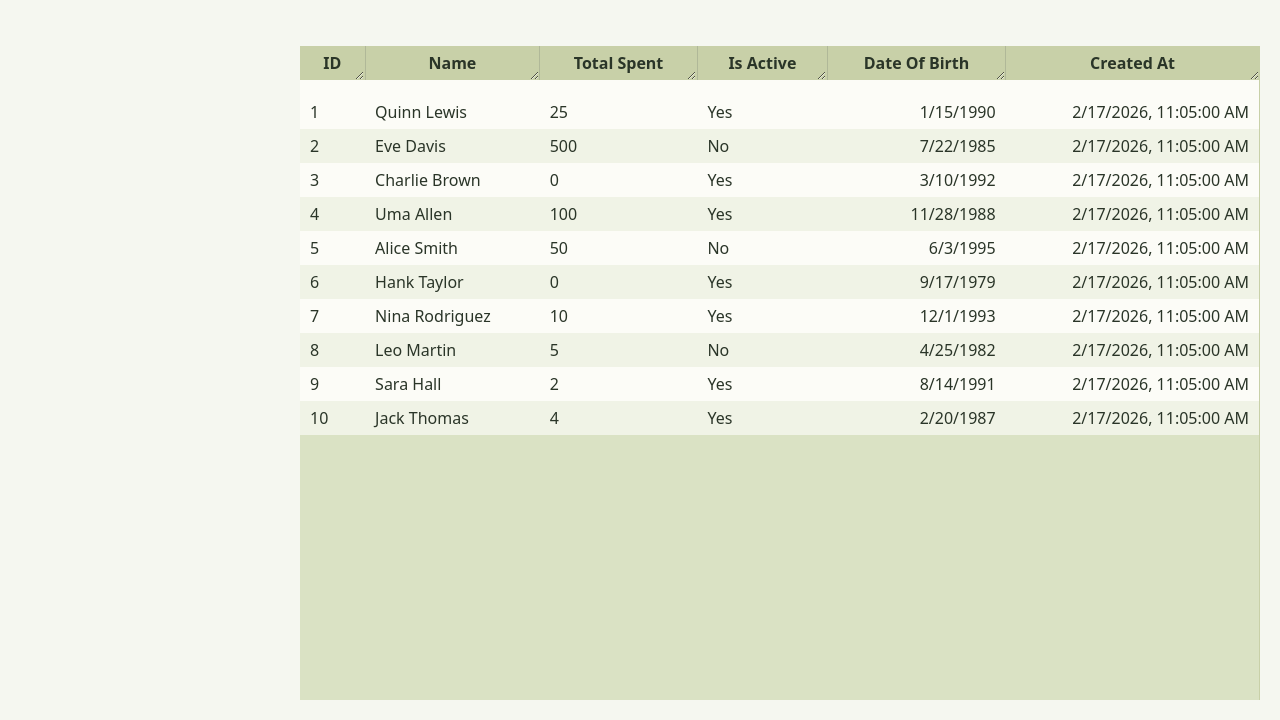
Test case: Table › sets the sort indicator to desc when a column is clicked twice
The width and height of the screenshot is (1280, 720).
Click the button "Name" at (452, 63), box [365,46,540,80]
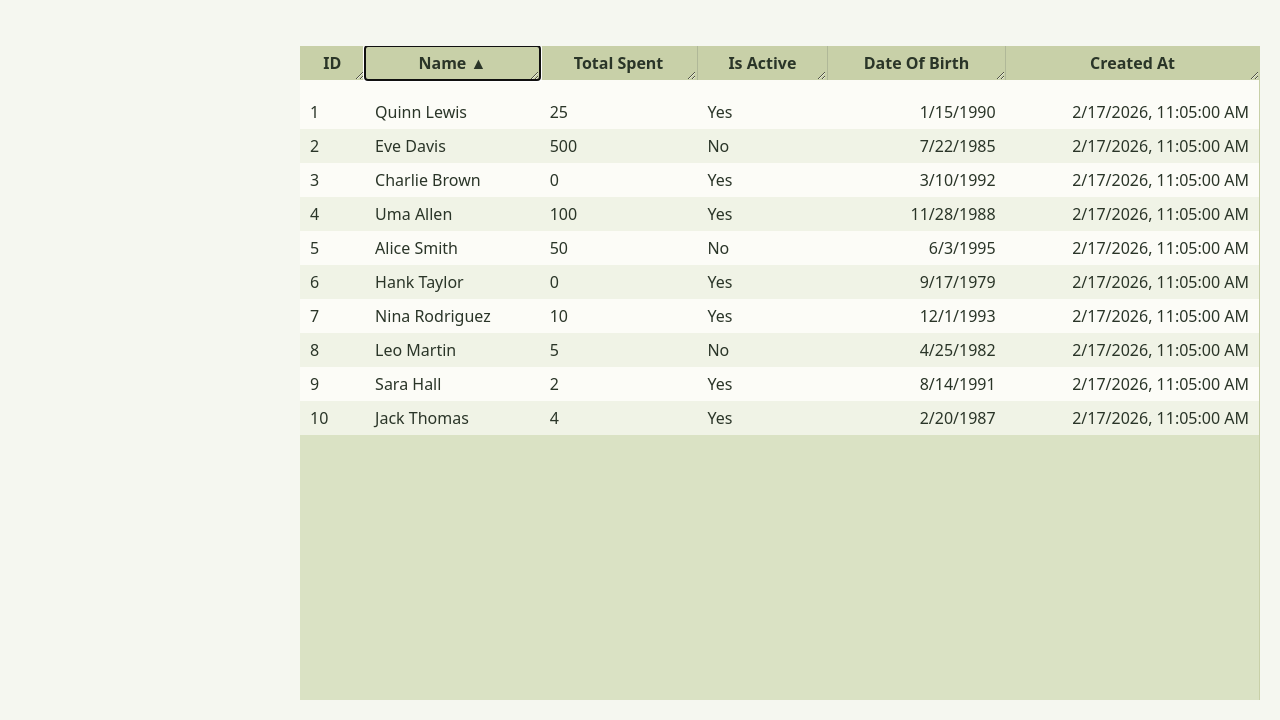
Click the button "Name ▲" at (452, 63), box [365,46,540,80]
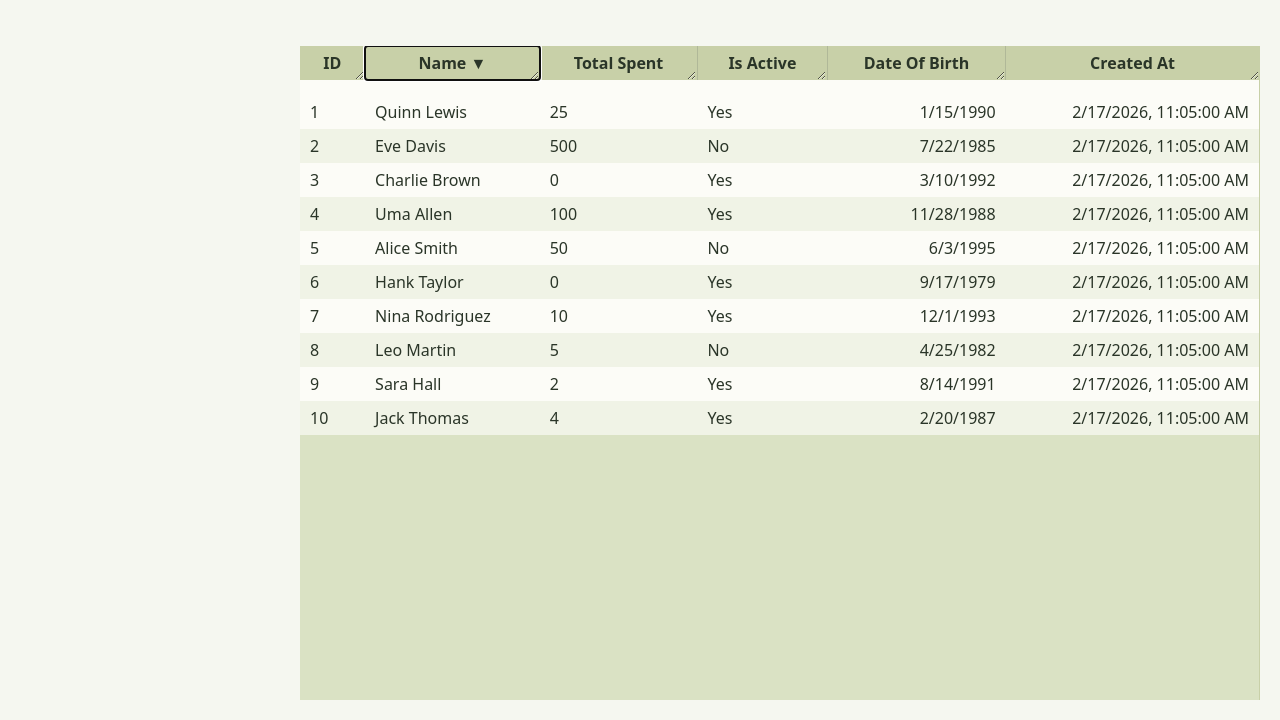
Check: the button "Name ▼" is shown, box [365,46,540,80]
